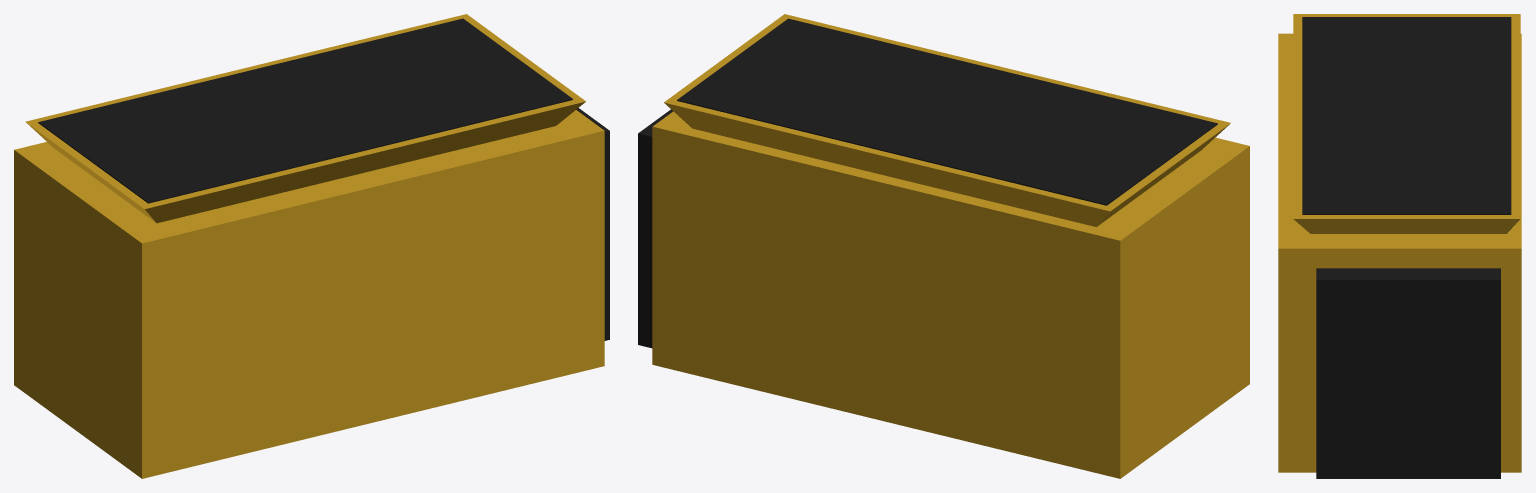
File: md40_feed.obj
The picture shows the model from 3 angles, left to right: view 1: azimuth 30°, elevation 25°; view 2: azimuth 150°, elevation 25°; view 3: azimuth 270°, elevation 25°; orthographic projection. The views are drawn at different scales.
Visible parts, largest first — view 1: md40_feed; view 2: md40_feed; view 3: md40_feed.
Boxes of the visible parts, box(x1,y1,x2,y2) form: md40_feed: box(14, 14, 609, 478); md40_feed: box(638, 14, 1249, 478); md40_feed: box(1278, 14, 1521, 478).
Size of the model in its own units: 4.64 by 2.39 by 2.11.
